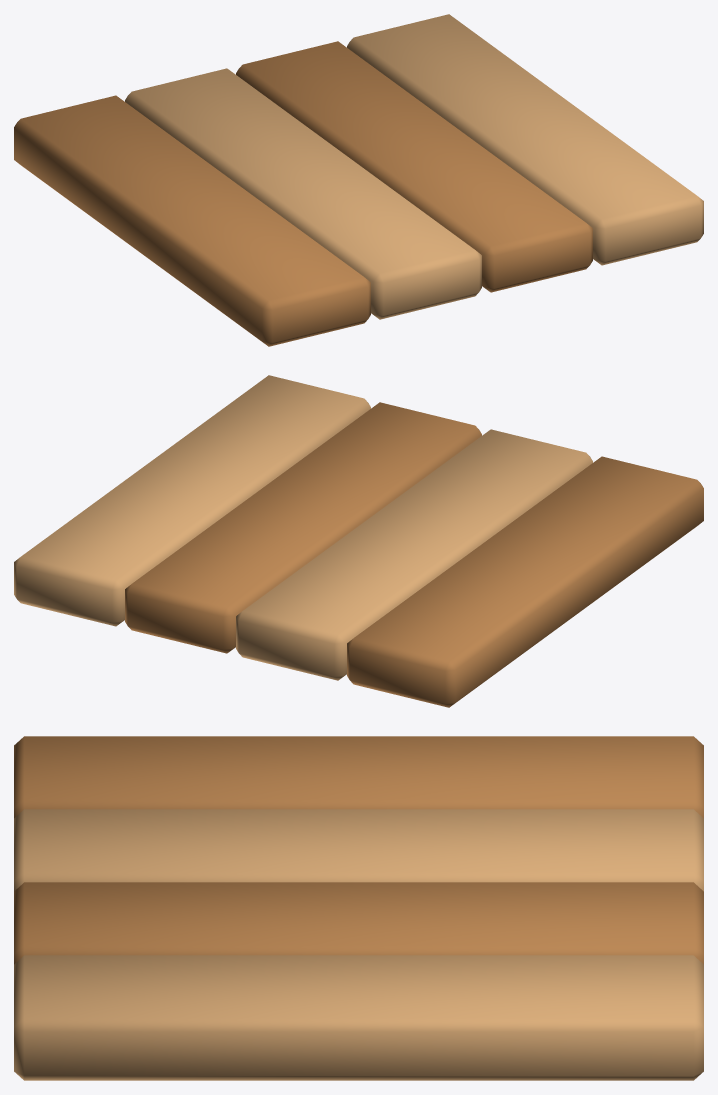
File: piso_madeira.glb
3 renders of one model, top to bottom at view 1: azimuth 30°, elevation 25°; view 2: azimuth 150°, elevation 25°; view 3: azimuth 270°, elevation 25°, orthographic. The views are drawn at different scales.
Parts seen in each view (by area): view 1: Piso_Madeira; view 2: Piso_Madeira; view 3: Piso_Madeira.
Part boxes in pixels (x1,y1,x2,y2): Piso_Madeira: (14, 14, 703, 346); Piso_Madeira: (14, 375, 703, 707); Piso_Madeira: (14, 736, 703, 1080).
Bounding box in the file's own units: 0.995 × 0.1 × 0.998.
